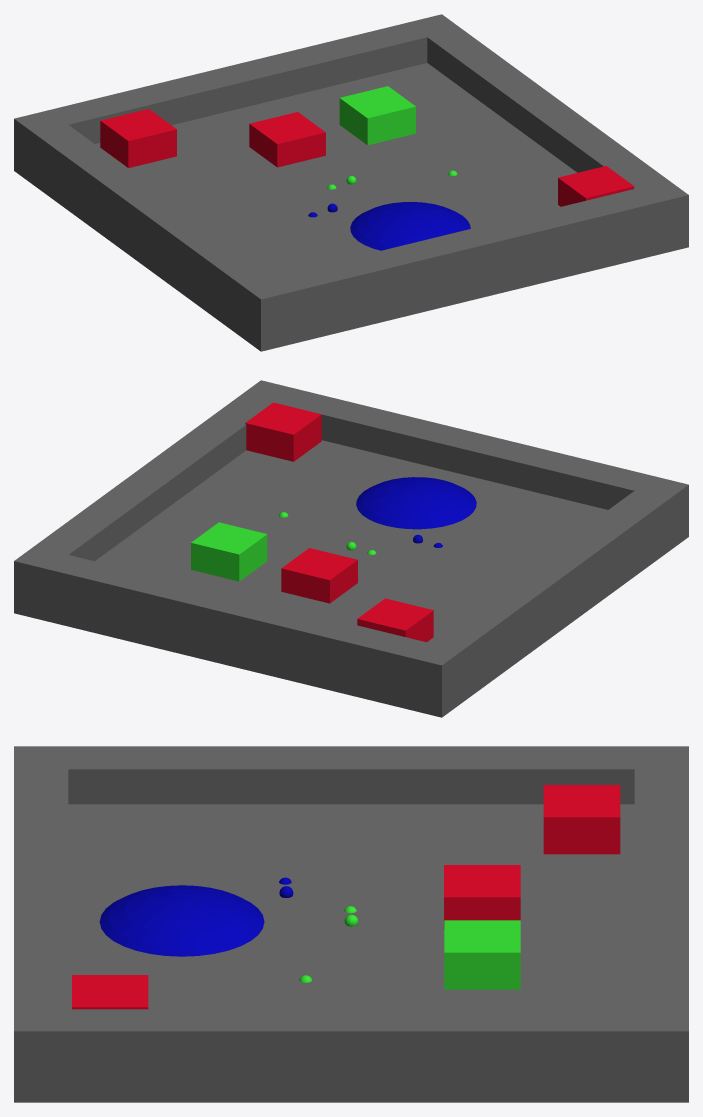
The model's file is collider_mouvement.glb.
The picture shows the model from 3 angles, top to bottom: view 1: azimuth 30°, elevation 25°; view 2: azimuth 150°, elevation 25°; view 3: azimuth 270°, elevation 25°; orthographic projection. The views are drawn at different scales.
Parts seen in each view (by area): view 1: plancher, devers, Cube, Cube.003, Cube3, Cube2; view 2: plancher, devers, Cube.003, Cube2, Cube3, Cube; view 3: plancher, devers, Cube, Cube.003, Cube3, Cube2.
Part boxes in pixels (x1=…): plancher: x1=14, y1=14, x2=688, y2=351; devers: x1=350, y1=202, x2=470, y2=250; Cube: x1=100, y1=109, x2=176, y2=167; Cube.003: x1=339, y1=86, x2=415, y2=145; Cube3: x1=249, y1=112, x2=325, y2=167; Cube2: x1=558, y1=166, x2=634, y2=206; plancher: x1=14, y1=380, x2=688, y2=717; devers: x1=356, y1=477, x2=476, y2=529; Cube.003: x1=191, y1=522, x2=267, y2=581; Cube2: x1=245, y1=402, x2=321, y2=461; Cube3: x1=281, y1=548, x2=357, y2=603; Cube: x1=357, y1=598, x2=433, y2=642; plancher: x1=14, y1=746, x2=688, y2=1102; devers: x1=99, y1=885, x2=264, y2=956; Cube: x1=543, y1=785, x2=620, y2=854; Cube.003: x1=444, y1=920, x2=520, y2=989; Cube3: x1=444, y1=865, x2=520, y2=928; Cube2: x1=72, y1=975, x2=148, y2=1009.
Bounding box in the file's own units: 97.2 × 19.23 × 97.2.
